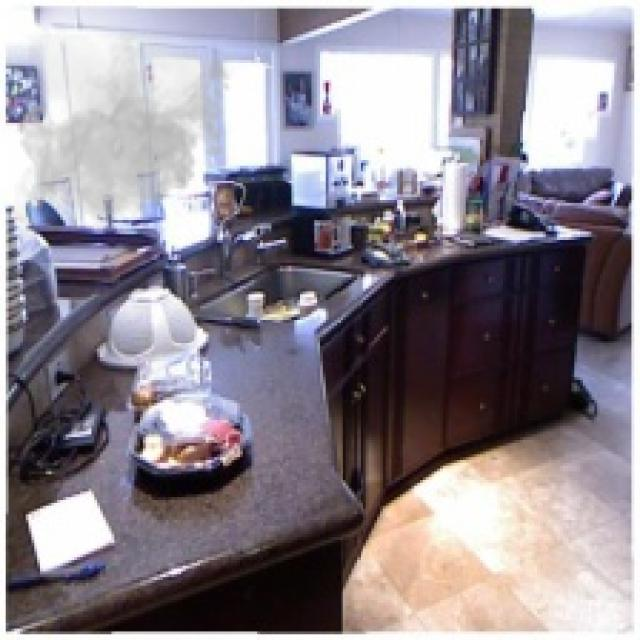Smoke: (14, 34, 237, 234)
